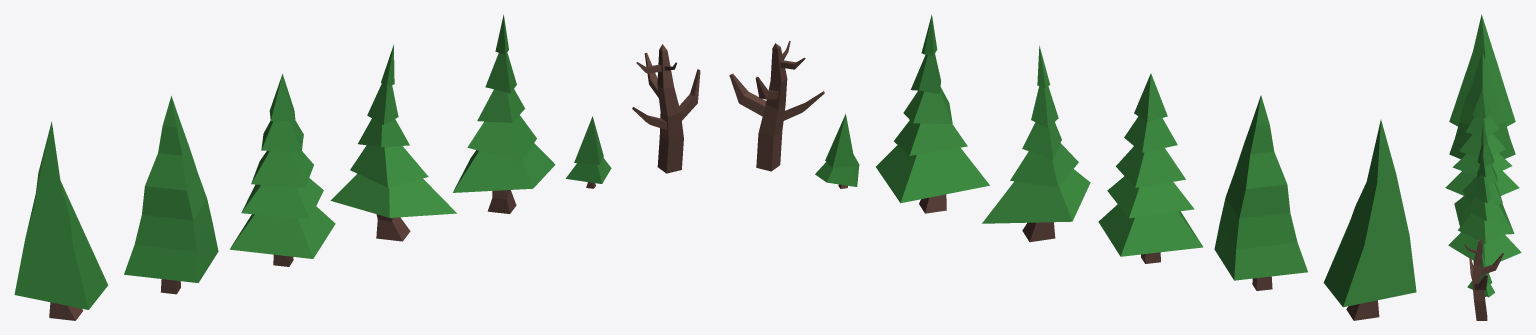
The model's file is trees.glb.
3 views of the same model, side by side, from view 1: azimuth 30°, elevation 25°; view 2: azimuth 150°, elevation 25°; view 3: azimuth 270°, elevation 25° (orthographic). The views are drawn at different scales.
Parts seen in each view (by area): view 1: Cone.019, Cone.021, Cone.002, Plane, Cone.013, Cone.007, Cone.003, Cone.014, Cone.008, Cone.004, Cone.005, Cone.009 (+8 smaller); view 2: Cone.019, Cone.021, Cone.007, Plane, Cone.013, Cone.002, Cone.003, Cone.004, Cone.008, Cone.014, Cone.009, Cone.005 (+8 smaller); view 3: Cone.019, Cone.021, Cone.007, Plane, Cone.008, Cone.002, Cone.003, Cone.013, Cone.004, Cone.009, Cone.005, Cone.014 (+8 smaller).
Boxes of the visible parts, box(x1,y1,x2,y2) form: Cone.019: box(124, 96, 218, 282); Cone.021: box(14, 121, 108, 309); Cone.002: box(229, 206, 335, 258); Plane: box(632, 44, 700, 173); Cone.013: box(330, 173, 456, 217); Cone.007: box(453, 143, 555, 192); Cone.003: box(241, 178, 323, 219); Cone.014: box(350, 145, 428, 187); Cone.008: box(467, 115, 536, 161); Cone.004: box(251, 150, 313, 187); Cone.005: box(261, 121, 303, 151); Cone.009: box(477, 89, 524, 122); Cone.019: box(1214, 95, 1307, 280); Cone.021: box(1323, 120, 1416, 307); Cone.007: box(876, 145, 989, 203); Plane: box(729, 41, 824, 171); Cone.013: box(982, 169, 1090, 223); Cone.002: box(1098, 204, 1202, 256); Cone.003: box(1107, 176, 1194, 218); Cone.004: box(1116, 146, 1185, 187); Cone.008: box(894, 120, 967, 155); Cone.014: box(1010, 143, 1078, 187); Cone.009: box(903, 87, 952, 123); Cone.005: box(1124, 116, 1177, 152); Cone.019: box(1449, 52, 1515, 159); Cone.021: box(1449, 14, 1515, 126); Cone.007: box(1448, 232, 1521, 266); Plane: box(1464, 237, 1503, 320); Cone.008: box(1458, 213, 1506, 243); Cone.002: box(1445, 171, 1519, 195); Cone.003: box(1452, 153, 1511, 176); Cone.013: box(1454, 195, 1514, 234); Cone.004: box(1459, 134, 1505, 157); Cone.009: box(1466, 196, 1498, 220); Cone.005: box(1465, 115, 1499, 136); Cone.014: box(1462, 175, 1502, 204).
Bounding box in the file's own units: 12.48 × 3.45 × 1.98.
